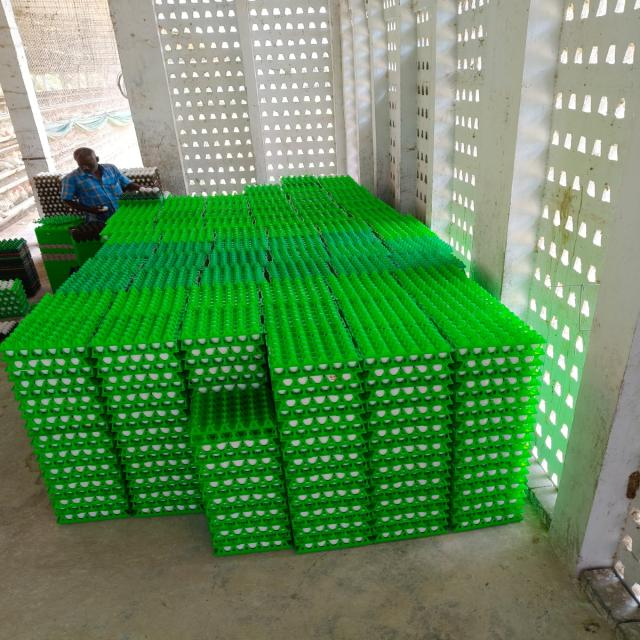egg_tray: (397, 268, 541, 530), (332, 276, 452, 541), (263, 279, 371, 552), (263, 280, 371, 552), (3, 294, 129, 522), (92, 289, 202, 516), (14, 358, 128, 522), (331, 276, 452, 419), (190, 388, 291, 555), (452, 352, 539, 530), (396, 268, 542, 370), (262, 279, 362, 418), (452, 367, 537, 529), (279, 408, 371, 552), (318, 176, 461, 268), (26, 396, 128, 522), (318, 176, 457, 268), (92, 289, 186, 420), (281, 420, 372, 552), (367, 397, 450, 537), (10, 359, 115, 468), (453, 343, 540, 474), (27, 412, 129, 523), (330, 273, 451, 365), (367, 416, 451, 541), (261, 278, 357, 377), (180, 282, 267, 391), (451, 414, 532, 530), (451, 413, 531, 530), (452, 415, 534, 528), (395, 268, 508, 350), (114, 410, 201, 516), (114, 412, 201, 516), (32, 430, 129, 523), (3, 292, 112, 369), (91, 288, 185, 374), (451, 333, 540, 420), (91, 288, 186, 366), (189, 388, 279, 466), (96, 343, 187, 419), (363, 352, 452, 420), (453, 348, 540, 417), (122, 442, 203, 516), (181, 283, 263, 356), (363, 354, 452, 419), (454, 349, 540, 416), (282, 424, 366, 492), (97, 360, 187, 422), (289, 487, 374, 552), (290, 488, 374, 552), (450, 462, 527, 531), (290, 489, 374, 552), (210, 492, 292, 556), (267, 333, 361, 388), (455, 350, 541, 409), (43, 464, 129, 523), (271, 366, 363, 421), (455, 404, 534, 464), (200, 218, 268, 287), (271, 366, 361, 418), (7, 358, 99, 406), (124, 458, 200, 515), (261, 210, 329, 269), (56, 249, 143, 294), (322, 220, 394, 274), (259, 209, 329, 264), (130, 242, 210, 290), (16, 376, 103, 420), (267, 223, 331, 282), (185, 346, 267, 392), (269, 218, 330, 278), (265, 217, 329, 270), (30, 425, 116, 464), (150, 198, 215, 246), (129, 474, 203, 516), (101, 200, 163, 248), (97, 362, 183, 395), (210, 218, 268, 266), (114, 414, 188, 450), (53, 490, 130, 524), (208, 228, 270, 268), (278, 413, 364, 441), (141, 236, 211, 270), (0, 238, 40, 296), (278, 413, 365, 439), (101, 209, 158, 246), (27, 410, 107, 433), (130, 264, 198, 290), (35, 214, 82, 251), (267, 254, 331, 281), (32, 172, 69, 217), (42, 248, 78, 292), (331, 253, 397, 276), (199, 263, 265, 286), (0, 279, 29, 318), (123, 167, 161, 187), (120, 186, 162, 200), (207, 479, 247, 493), (0, 320, 18, 339), (33, 396, 56, 409), (474, 500, 495, 510), (119, 206, 137, 214), (269, 268, 284, 277), (269, 269, 284, 278), (148, 423, 167, 430), (74, 358, 90, 366), (250, 478, 262, 488), (148, 425, 167, 431), (70, 396, 89, 402), (438, 385, 449, 394), (524, 366, 531, 380), (270, 270, 283, 276), (178, 472, 193, 477), (291, 333, 300, 340), (87, 378, 94, 387), (192, 349, 213, 352), (267, 476, 277, 482), (60, 378, 70, 383), (74, 378, 84, 383), (131, 424, 139, 430), (45, 359, 50, 367), (454, 420, 460, 426), (502, 336, 509, 341), (391, 280, 396, 287), (454, 374, 458, 382), (464, 505, 469, 511), (484, 359, 489, 365), (86, 476, 92, 481), (47, 379, 54, 383), (19, 369, 25, 373), (506, 391, 517, 393), (494, 403, 501, 406), (20, 369, 25, 373), (168, 423, 172, 428), (523, 335, 526, 341), (490, 455, 496, 458), (511, 356, 515, 360), (17, 390, 21, 394), (300, 273, 304, 277), (300, 272, 303, 277), (494, 338, 497, 342), (118, 218, 121, 222), (318, 416, 324, 418), (232, 506, 238, 508), (474, 478, 476, 483), (132, 429, 137, 431), (247, 222, 252, 224), (507, 402, 512, 404), (499, 503, 502, 506), (506, 513, 509, 516), (464, 474, 468, 476), (498, 358, 502, 360), (279, 485, 281, 488), (524, 336, 527, 338), (459, 263, 461, 266), (125, 458, 128, 460), (511, 501, 514, 503), (457, 473, 459, 476), (479, 362, 482, 364), (350, 378, 353, 380), (273, 358, 275, 360), (26, 391, 30, 392), (69, 388, 71, 390), (83, 478, 85, 480), (356, 394, 358, 396), (290, 272, 292, 274), (487, 354, 489, 356), (43, 404, 44, 406), (203, 282, 204, 284), (19, 396, 21, 397), (104, 367, 106, 368), (386, 274, 388, 275), (83, 477, 85, 478), (10, 374, 11, 375), (210, 521, 211, 522), (134, 450, 134, 450), (474, 365, 476, 365), (108, 220, 108, 222), (145, 203, 151, 203), (217, 283, 225, 283), (301, 223, 301, 224), (341, 221, 341, 222), (330, 220, 330, 222), (485, 314, 485, 314), (354, 383, 354, 383), (294, 214, 294, 215), (146, 416, 149, 416), (521, 454, 523, 454)
